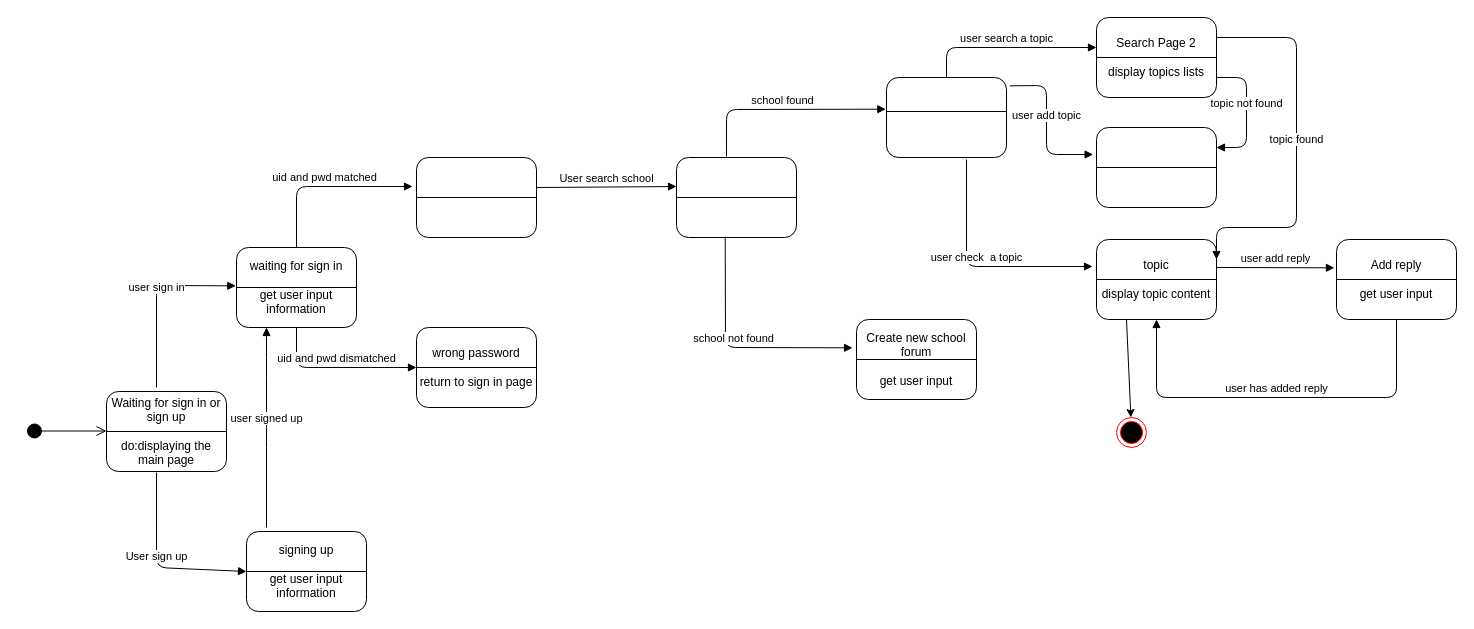
This 1474x629 diagram has some shape labels left out. The shapes that lost their labels are listed below. From the top down, each one's box as (x1, y1, x2, y2) in pixels, then its label:
(886, 76, 1006, 158): school forum display topics under this forum
(1096, 126, 1216, 208): Add topic get user input
(416, 156, 536, 238): signed in display school list
(676, 156, 796, 238): Search Page display school lists
